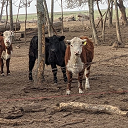vaca: (24, 30, 62, 83), (63, 35, 95, 95), (0, 27, 16, 84)
